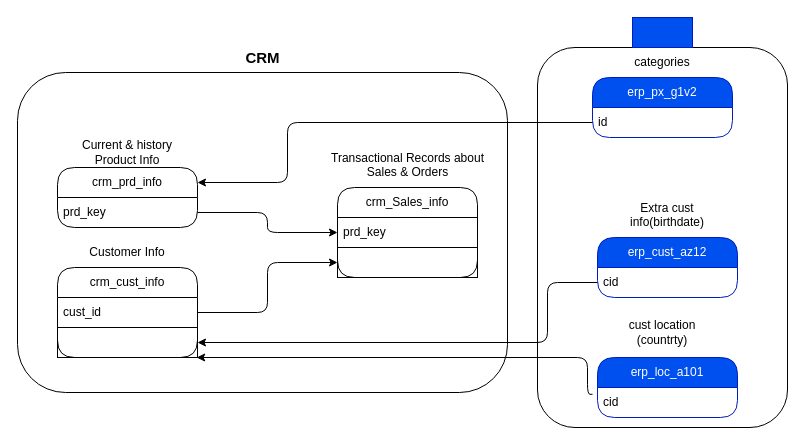
The diagram is 805 pixels wide and 445 high, and some of its shapes have lost their labels. The centre of each missing label's shape, as x and y in pixels:
"cst_id" belongs at point (407, 262).
"cst_key" belongs at point (127, 342).
"ERP" belongs at point (662, 32).
